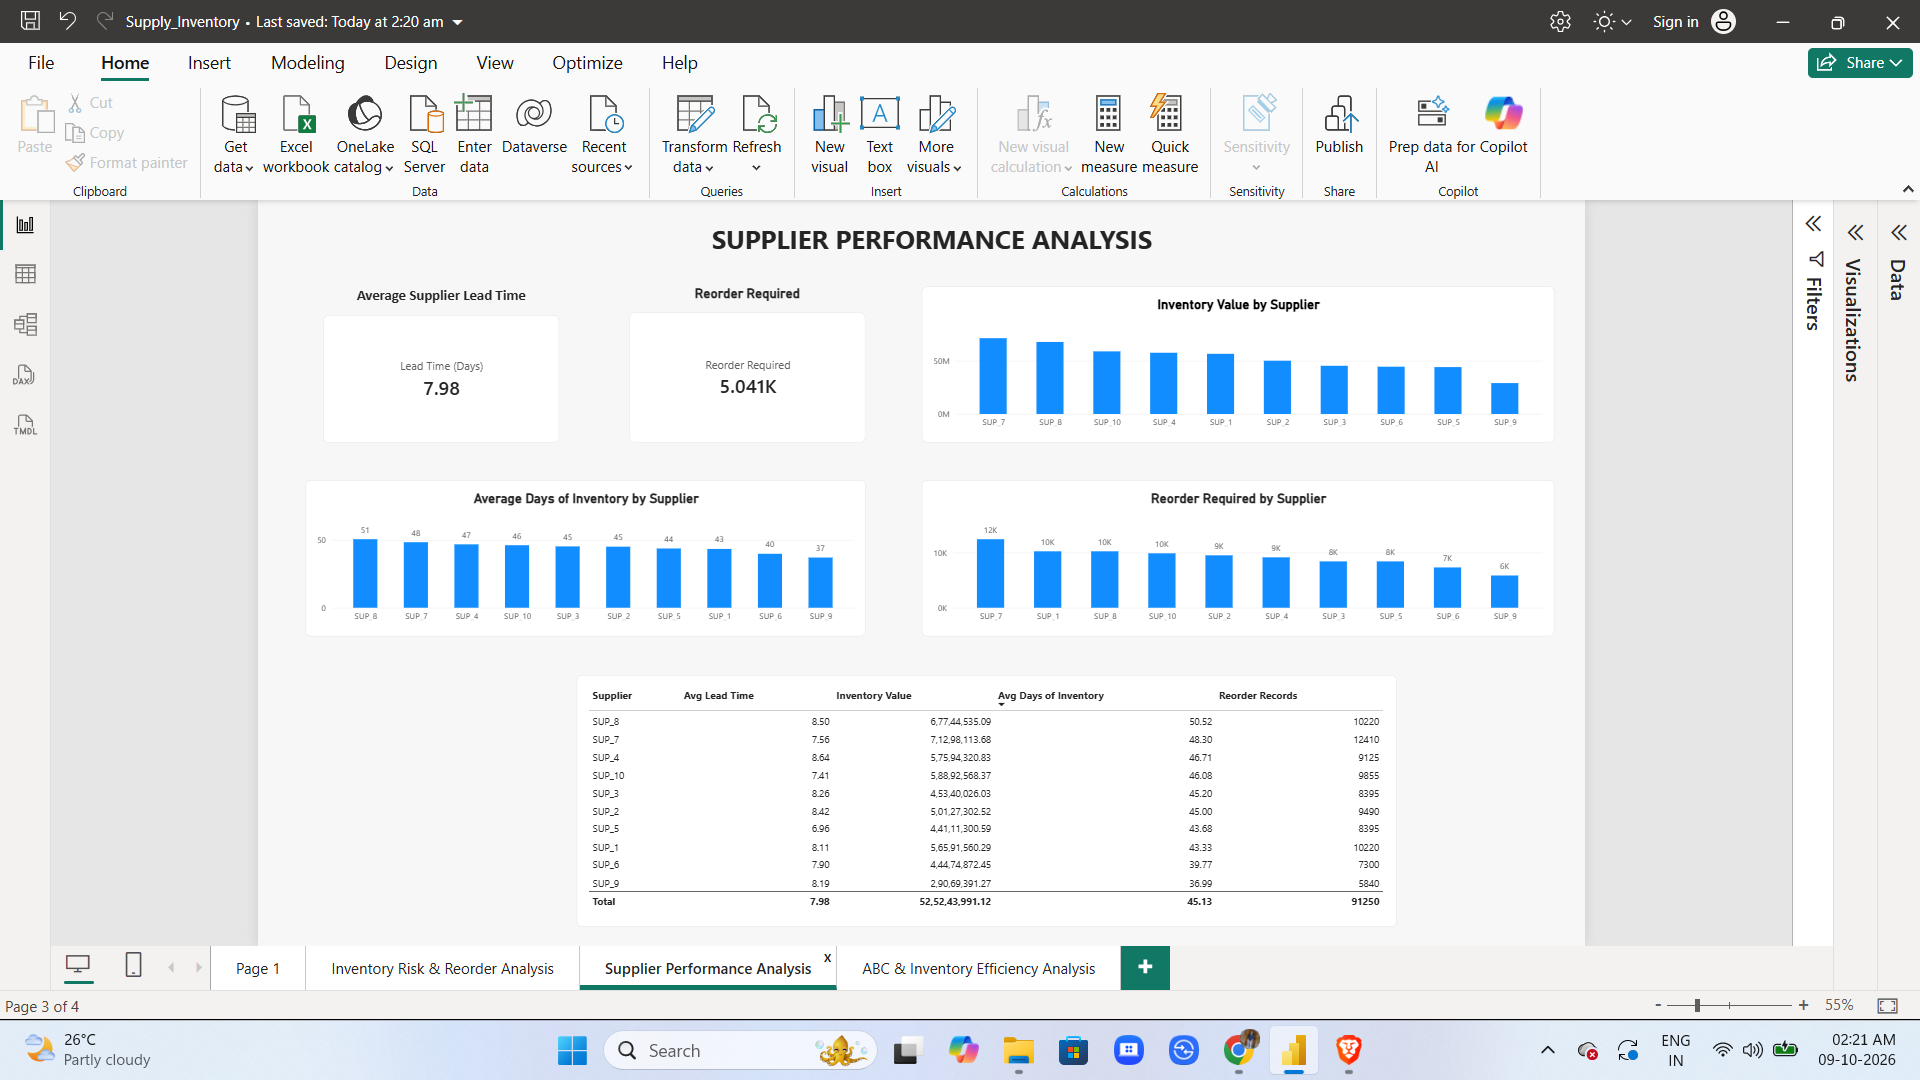

Layout of this report page (visuals, bound fields, positions):
{"tool":"powerbi","page":{"name":"Supplier Performance Analysis","canvas":[1920,1080],"ordinal":2},"visuals":[{"type":"cardVisual","title":"Average Supplier Lead Time","fields":{"Data":["Avg(SupplyChain.Supplier_Lead_Time_Days)"]},"box":[93.4,124.5,342.3,226.7],"z":0},{"type":"clusteredColumnChart","title":"Inventory Value by Supplier","fields":{"Category":["SupplyChain.Supplier_ID"],"Y":["Sum(SupplyChain.Inventory_Value)"]},"box":[960.2,124.5,915.8,226.7],"z":1000},{"type":"cardVisual","title":"Reorder Required","fields":{"Data":["CountNonNull(SupplyChain.Reorder_Risk)"]},"box":[537.9,124.5,342,227],"z":2000},{"type":"clusteredColumnChart","title":"Average Days of Inventory by Supplier","fields":{"Category":["SupplyChain.Supplier_ID"],"Y":["Avg(SupplyChain.Days_of_Inventory)"]},"box":[68.9,404.5,811.3,226.7],"z":3000},{"type":"clusteredColumnChart","title":"Reorder Required by Supplier","fields":{"Category":["SupplyChain.Supplier_ID"],"Y":["CountNonNull(SupplyChain.Reorder_Risk)"]},"box":[960.2,404.5,915.8,226.7],"z":4000},{"type":"tableEx","fields":{"Values":["SupplyChain.Supplier_ID","Avg(SupplyChain.Supplier_Lead_Time_Days)","Sum(SupplyChain.Inventory_Value)","Avg(SupplyChain.Days_of_Inventory)","SupplyChain.Reorder_Risk"]},"box":[462.3,686.8,1186.9,364.5],"z":5000},{"type":"textbox","box":[0,31.1,1920.5,93.4],"z":6000}]}

Visuals, with their boxes on the page's 1920x1080 design canvas (x1, y1, x2, y2). These are canvas units, not pixel positions in the 1920x1080 screenshot, which may show the page scaled, cropped or inside an application window:
"Average Supplier Lead Time" cardVisual: {"left": 93, "top": 124, "right": 436, "bottom": 351}
"Inventory Value by Supplier" clusteredColumnChart: {"left": 960, "top": 124, "right": 1876, "bottom": 351}
"Reorder Required" cardVisual: {"left": 538, "top": 124, "right": 880, "bottom": 352}
"Average Days of Inventory by Supplier" clusteredColumnChart: {"left": 69, "top": 404, "right": 880, "bottom": 631}
"Reorder Required by Supplier" clusteredColumnChart: {"left": 960, "top": 404, "right": 1876, "bottom": 631}
tableEx - SupplyChain.Supplier_ID x Avg(SupplyChain.Supplier_Lead_Time_Days): {"left": 462, "top": 687, "right": 1649, "bottom": 1051}
textbox: {"left": 0, "top": 31, "right": 1920, "bottom": 124}
